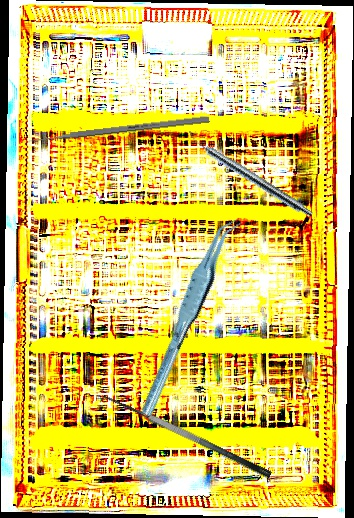Handpiece: (182, 129, 317, 220)
Pusher: (20, 115, 210, 146)
Spatula Surgical: (96, 387, 273, 493)
Tissue Forceps: (119, 213, 259, 418)
